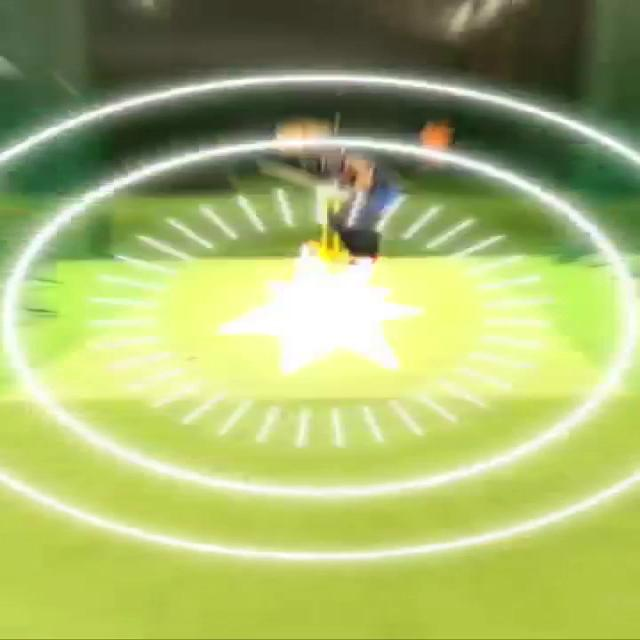batsman: (255, 117, 396, 270)
